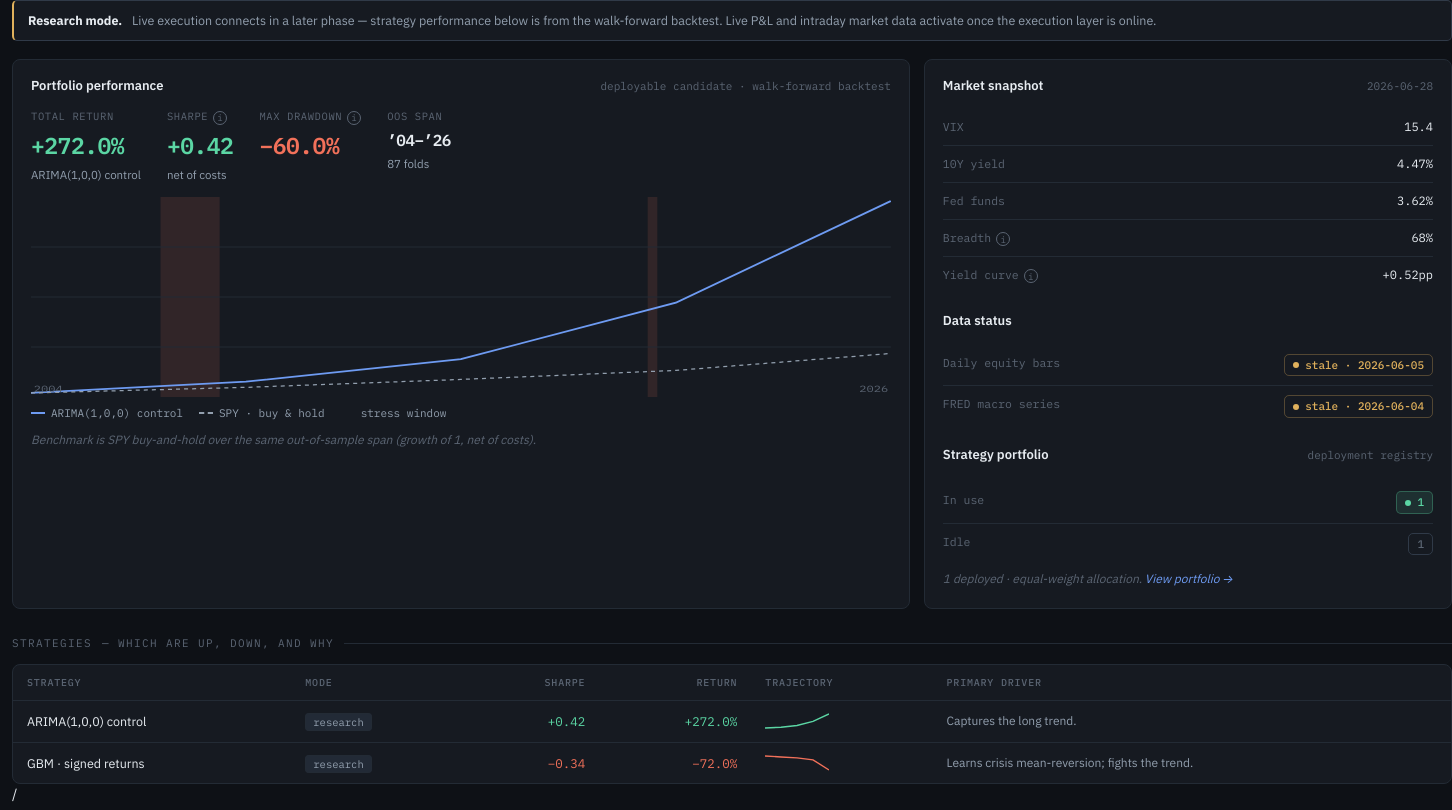
Test case: Overview panel › cross-links the portfolio summary tile to the Portfolio panel
Click the link with aria-label "Open Strategy Portfolio" at (1188, 503), box [937,478,1439,592]
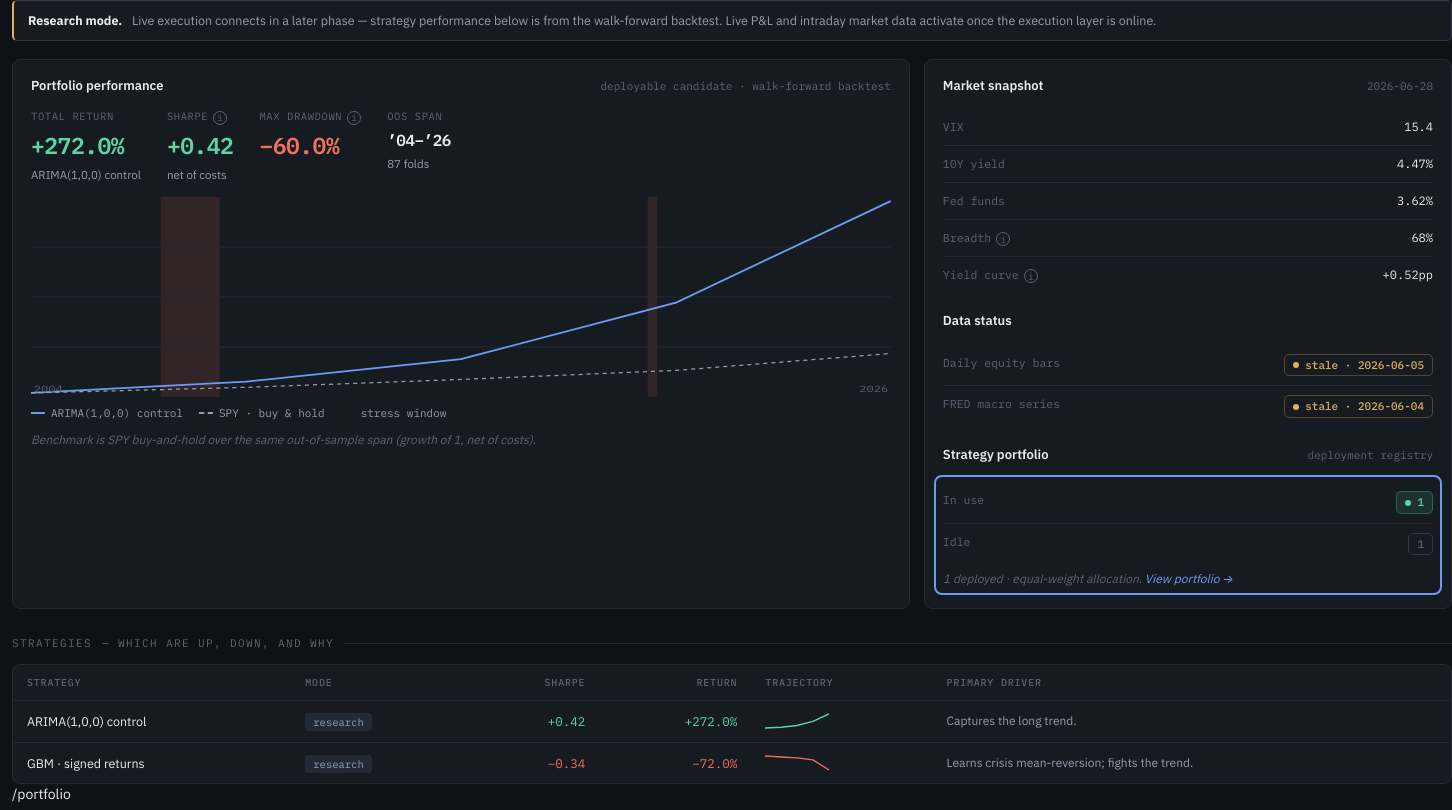
Now the text with test id "loc" reads "/portfolio", box [12,785,71,803]
